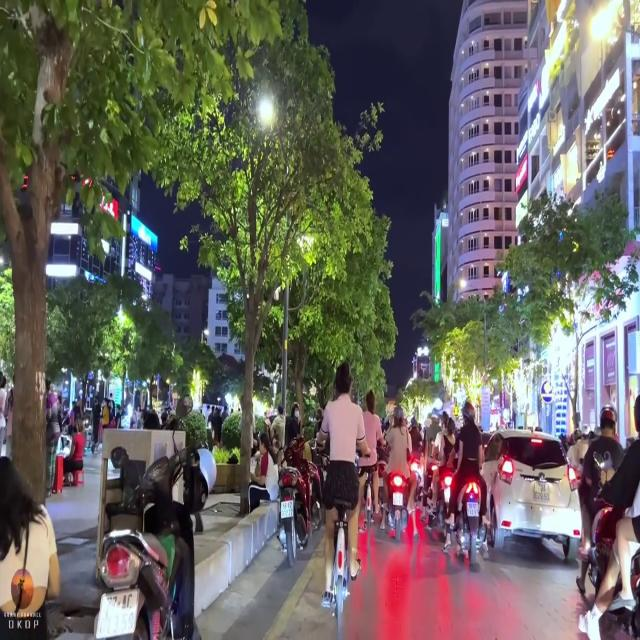bien_trang: (98, 586, 136, 630), (530, 479, 553, 505), (280, 501, 294, 517)
